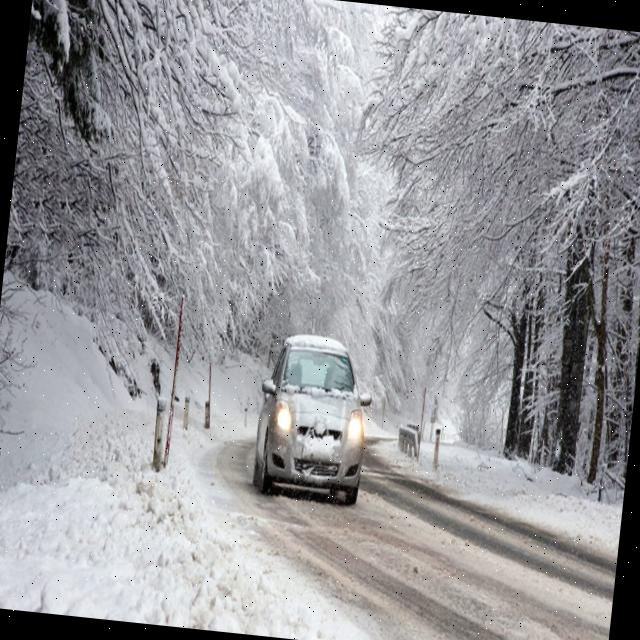car: (248, 330, 376, 508)
